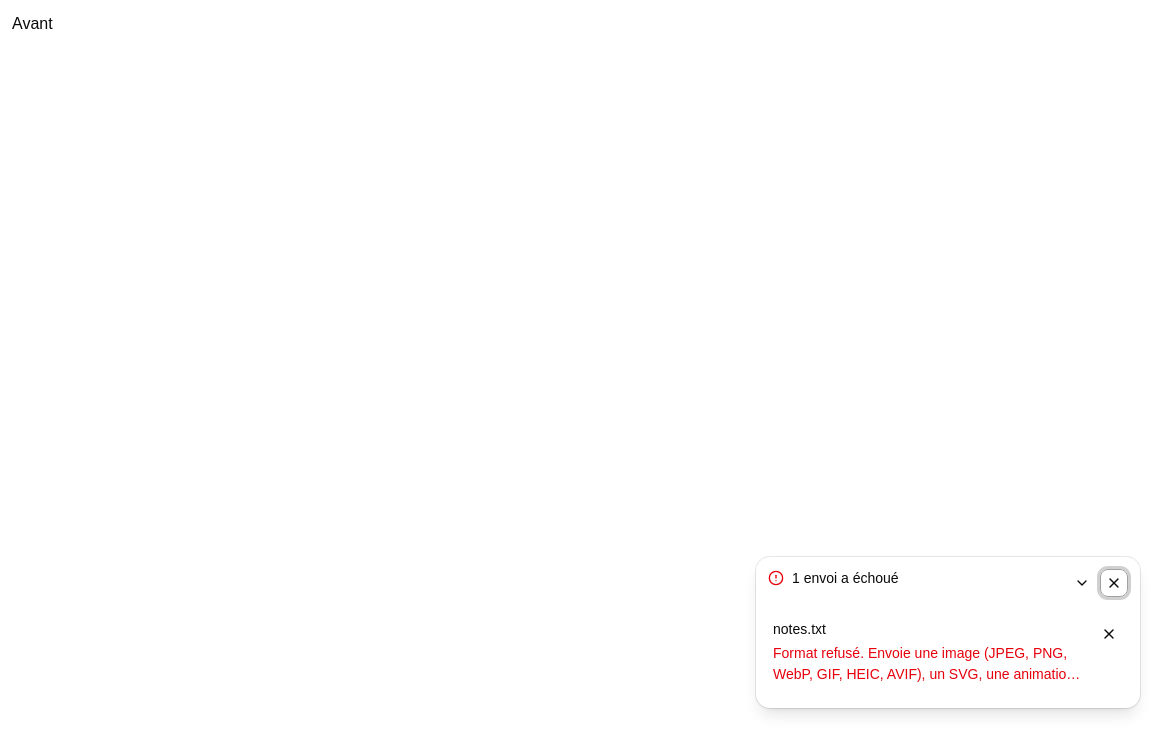
Test: fenêtre des envois › reste ouverte après un échec, et « Fermer » rend le focus où il était
Expected: the text "1 envoi a échoué" is shown, [768,570,899,586]
Expected: the text "Format refusé. Envoie une image (JPEG, PNG, WebP, GIF, HEIC, AVIF), un SVG, une animation Lottie (.json), un audio (MP3," is shown, [773,645,1074,696]
Click the button named "Fermer la fenêtre des envois".
click(1114, 583)  # box [1100,569,1128,597]
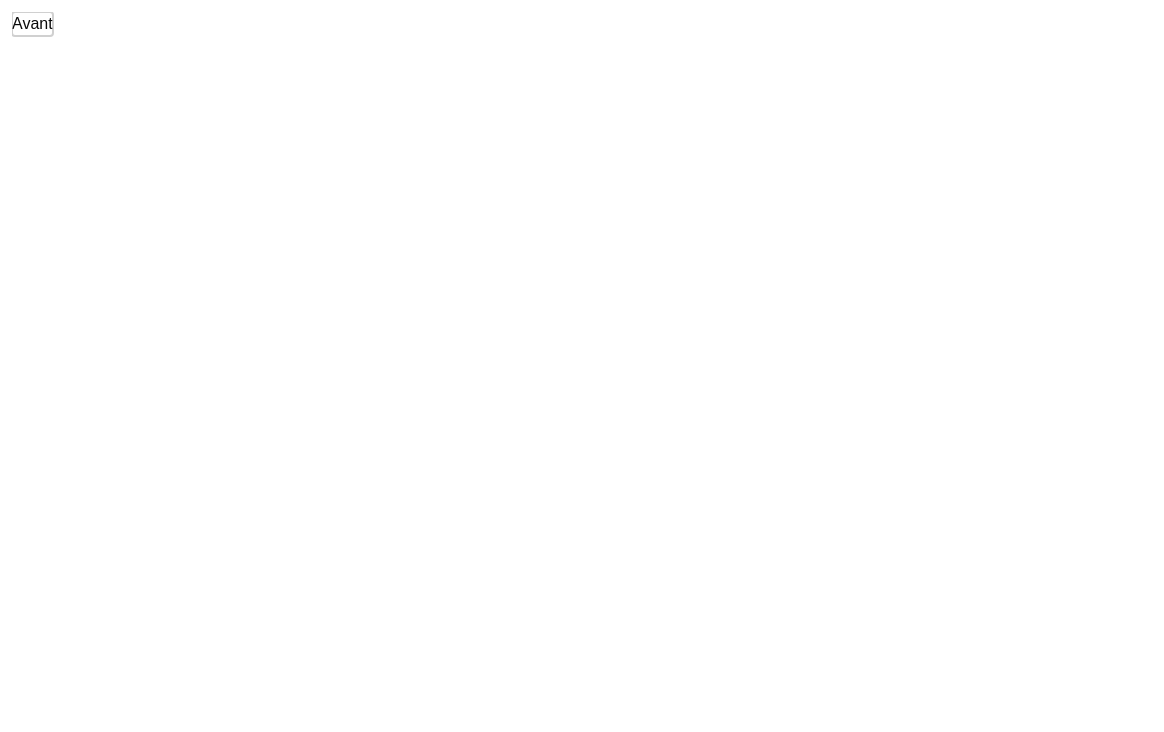
Expected: the button "Envois" is gone
